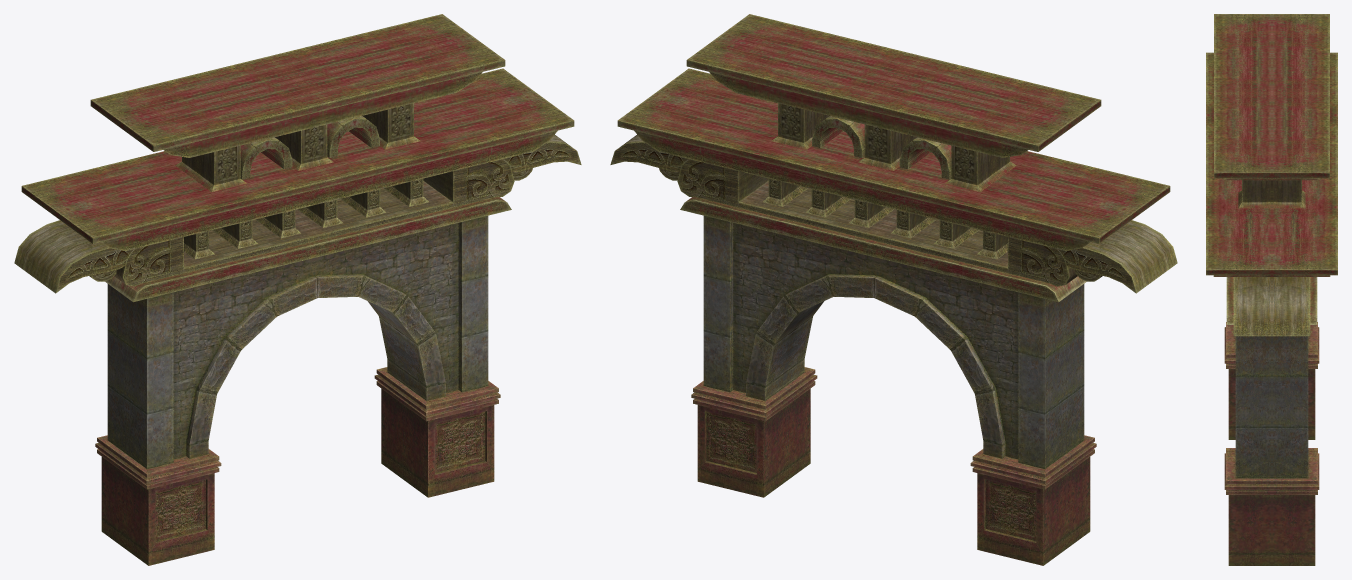
Rendered from fortressa_gate_00.glb.
3 renders of one model, left to right at view 1: azimuth 30°, elevation 25°; view 2: azimuth 150°, elevation 25°; view 3: azimuth 270°, elevation 25°, orthographic. The views are drawn at different scales.
Parts seen in each view (by area): view 1: fortressA_gate1_1; view 2: fortressA_gate1_1; view 3: fortressA_gate1_1.
Boxes of the visible parts, x1=… form: fortressA_gate1_1: x1=14, y1=14, x2=581, y2=565; fortressA_gate1_1: x1=610, y1=14, x2=1177, y2=565; fortressA_gate1_1: x1=1206, y1=14, x2=1337, y2=565.
Size of the model in its own units: 31.39 by 24.34 by 7.38.
2 materials, 2 textured.
